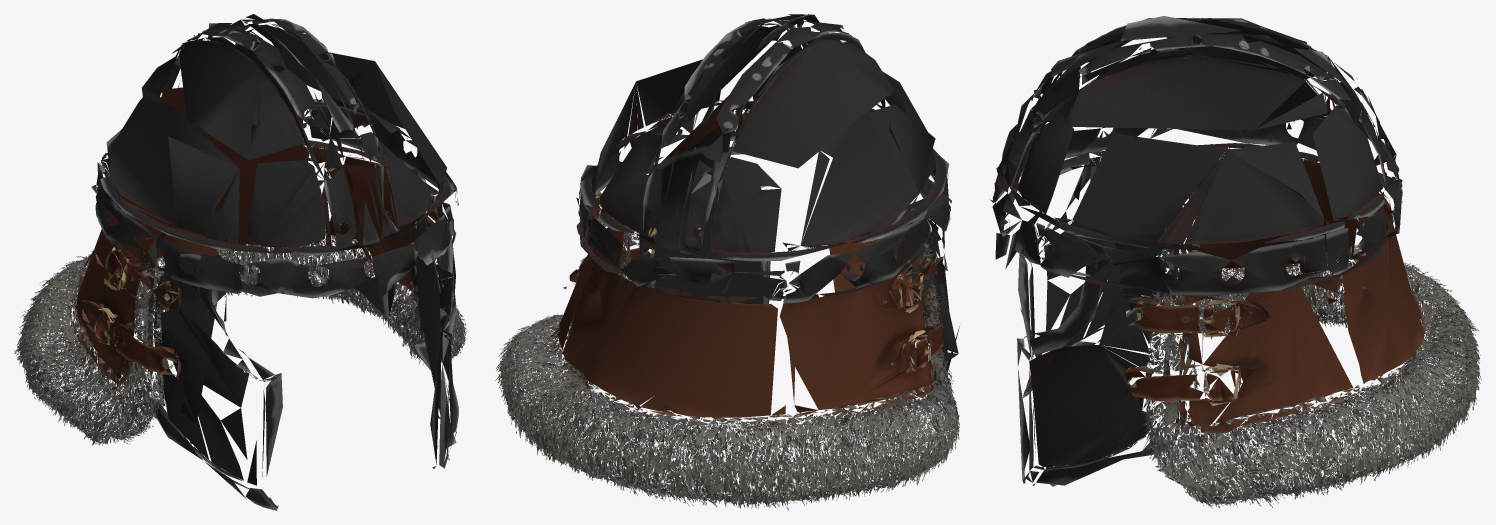
The model's file is lo_helmet.glb.
3 views of the same model, side by side, from view 1: azimuth 30°, elevation 25°; view 2: azimuth 150°, elevation 25°; view 3: azimuth 270°, elevation 25° (orthographic). The views are drawn at different scales.
Visible parts, largest first — view 1: Mesh_0; view 2: Mesh_0; view 3: Mesh_0.
Boxes of the visible parts, x1,y1,x2,y2 form: Mesh_0: (14, 14, 466, 510); Mesh_0: (495, 14, 959, 510); Mesh_0: (990, 16, 1481, 508).
Bounding box in the file's own units: 1.87 × 1.77 × 1.87.
Materials: 1 (1 with a texture image).
